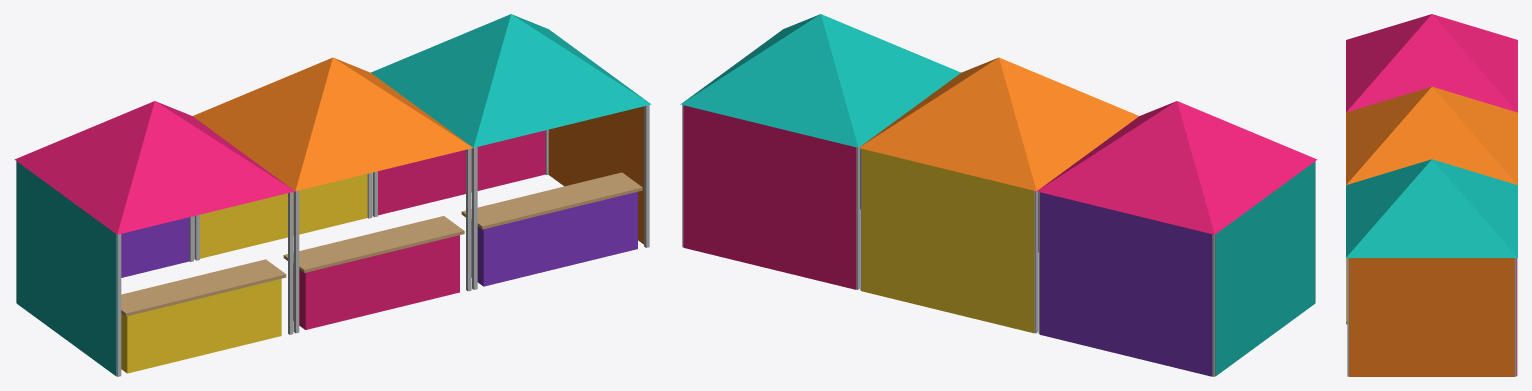
File: fest_vendor_tent.glb
3 views of the same model, side by side, from view 1: azimuth 30°, elevation 25°; view 2: azimuth 150°, elevation 25°; view 3: azimuth 270°, elevation 25° (orthographic). The views are drawn at different scales.
Parts seen in each view (by area): view 1: kp_vendor_tent; view 2: kp_vendor_tent; view 3: kp_vendor_tent.
Boxes of the visible parts, x1,y1,x2,y2 form: kp_vendor_tent: (14, 14, 651, 376); kp_vendor_tent: (680, 14, 1317, 376); kp_vendor_tent: (1346, 14, 1517, 376).
Bounding box in the file's own units: 9 × 3.5 × 3.
2 materials, 1 textured.
